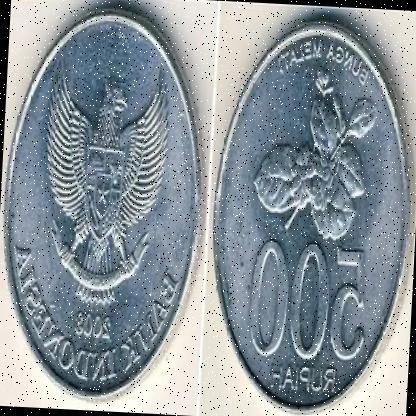coin_500_e2003: (204, 0, 416, 412), (0, 0, 204, 399)
